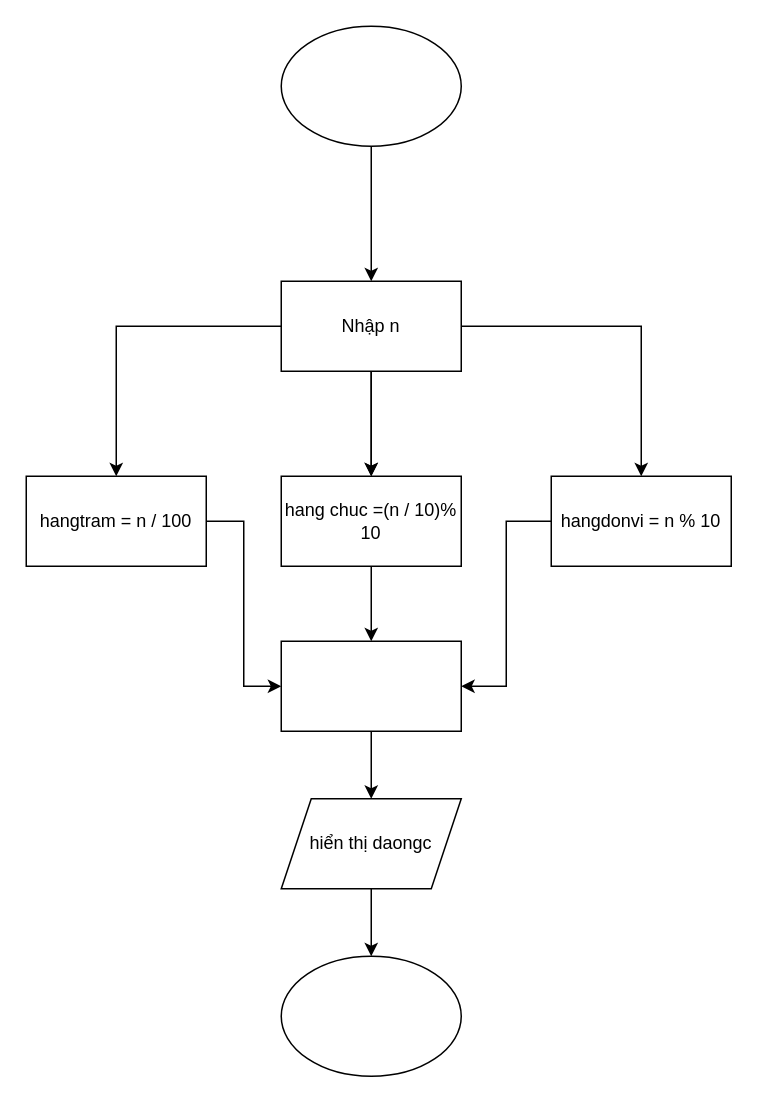
Some shapes in this 758 by 1103 pixel diagram are drawn without their labels. The box of each missing label's shape, as (x1, y1, x2, y2) in pixels:
daongc= hangtram+ hangchuc*10+ hangdonvi*100: (280, 640, 461, 731)
END: (280, 955, 461, 1076)
START: (280, 25, 461, 146)
